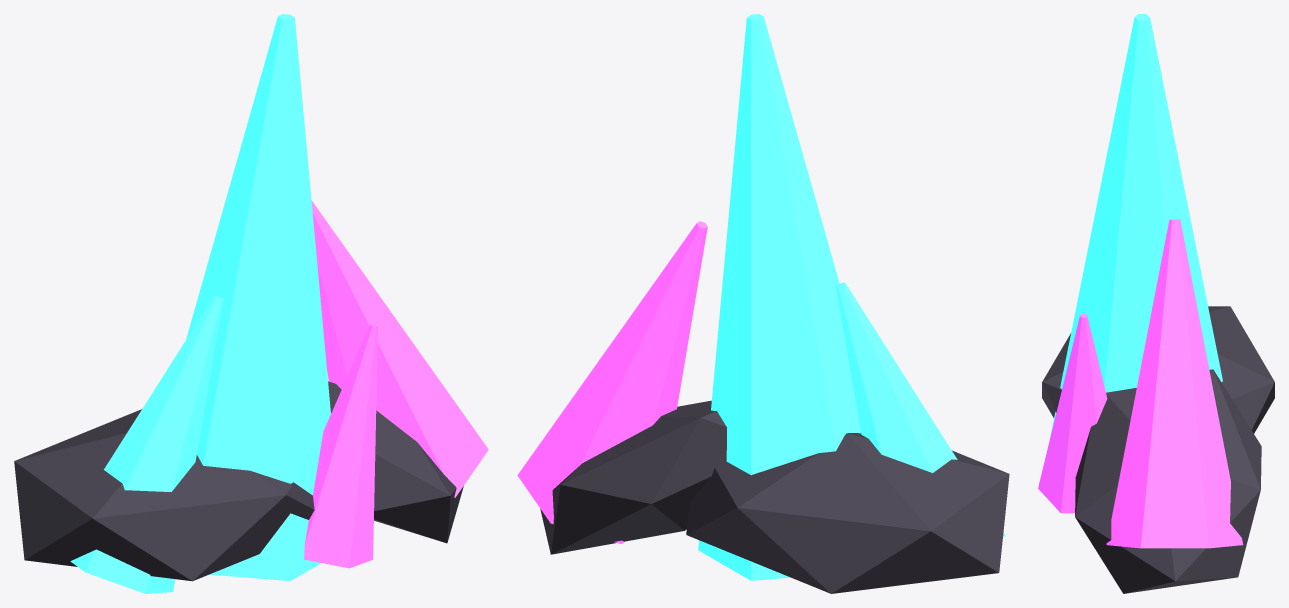
Rendered from crystal_cluster_small.glb.
3 views of the same model, side by side, from view 1: azimuth 30°, elevation 25°; view 2: azimuth 150°, elevation 25°; view 3: azimuth 270°, elevation 25° (orthographic). The views are drawn at different scales.
Visible parts, largest first — view 1: GEO_cyan, GEO_stonedark, GEO_violet; view 2: GEO_stonedark, GEO_cyan, GEO_violet; view 3: GEO_violet, GEO_cyan, GEO_stonedark.
Boxes of the visible parts, x1,y1,x2,y2 form: GEO_cyan: [70, 14, 330, 593]; GEO_stonedark: [14, 381, 463, 581]; GEO_violet: [304, 201, 488, 568]; GEO_stonedark: [540, 400, 1009, 593]; GEO_cyan: [698, 14, 1005, 580]; GEO_violet: [517, 221, 707, 543]; GEO_violet: [1038, 219, 1243, 548]; GEO_cyan: [1049, 14, 1222, 439]; GEO_stonedark: [1042, 306, 1274, 593].
Bounding box in the file's own units: 1.48 × 1.73 × 0.7273.
